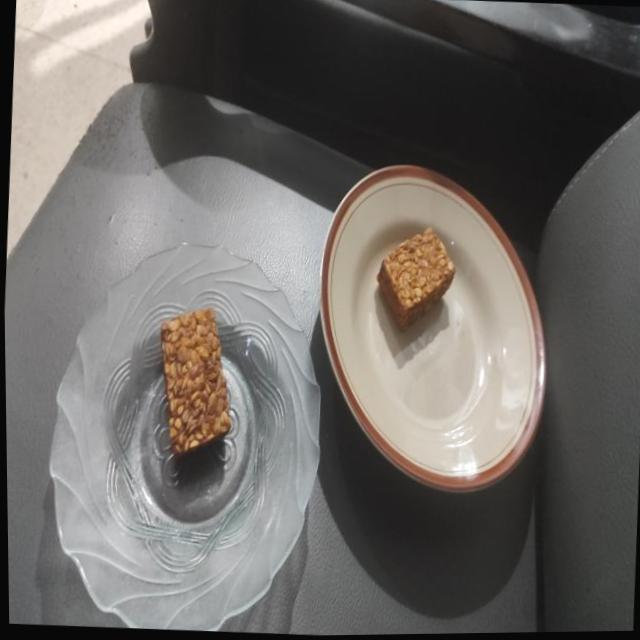tempe_goreng: (161, 308, 231, 455), (378, 228, 456, 329)
